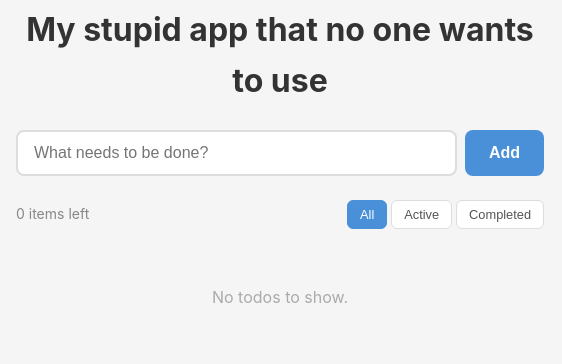
Test: Todo App › filters by All / Active / Completed
The image size is (562, 364).
In the field with placeholder "What needs to be done?": (236, 153) [16,130,457,176], type "Done task"
Click the button "Add": (504, 153) [465,130,544,176]
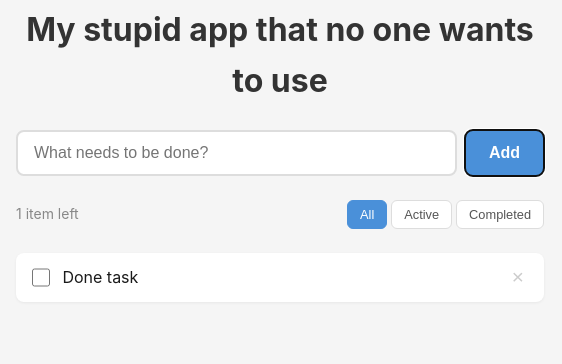
In the field with placeholder "What needs to be done?": (236, 153) [16,130,457,176], type "Pending task"
Click the button "Add": (504, 153) [465,130,544,176]
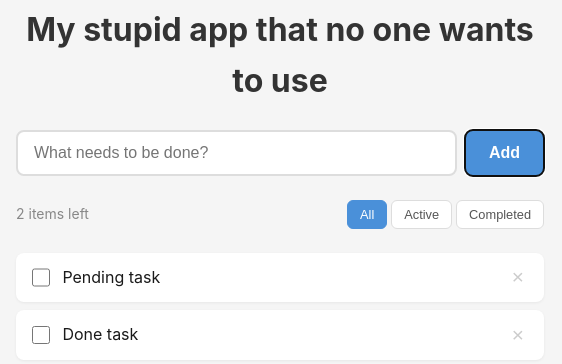
Click the checkbox named "Toggle \"Done task\"": (41, 335) [32,326,50,344]
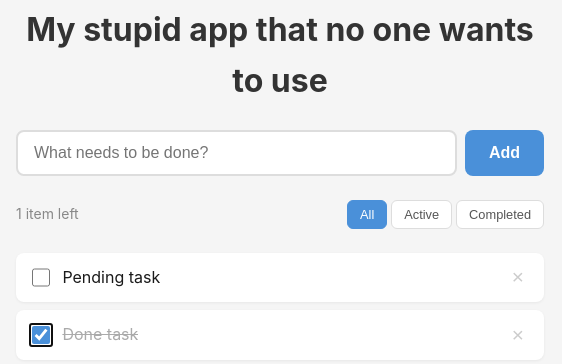
Click the button "Active": (422, 214) [391,200,452,229]
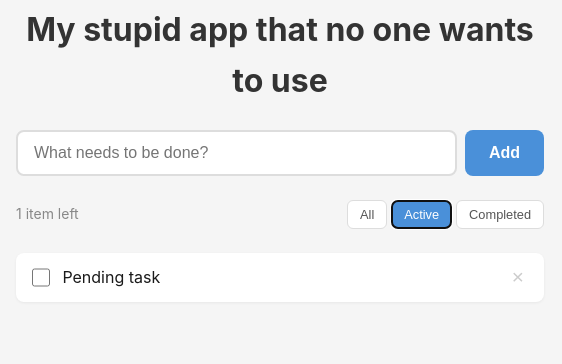
Expected: the text "Pending task" is shown, [62,265,160,290]
Expected: the text "Done task" is gone
Click the button "Completed": (500, 214) [456,200,544,229]
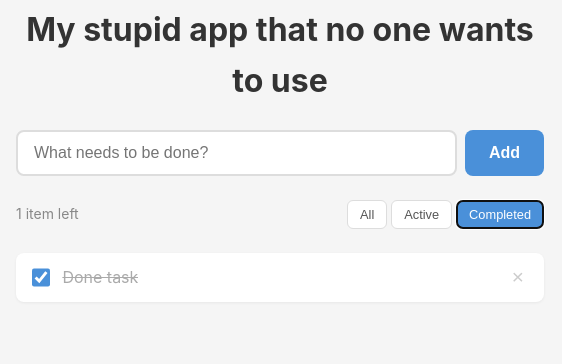
Expected: the text "Done task" is shown, [62,265,138,290]
Expected: the text "Pending task" is gone
Click the button "All": (367, 214) [347,200,387,229]
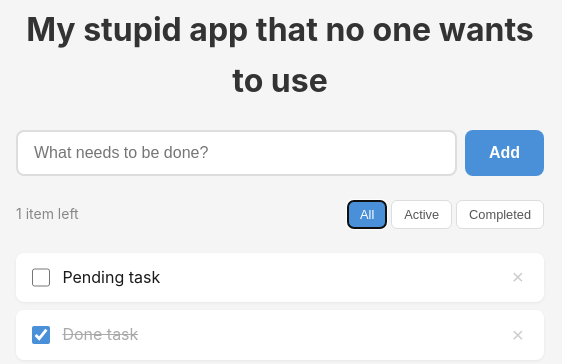
Expected: the text "Done task" is shown, [62,322,138,348]
Expected: the text "Pending task" is shown, [62,265,160,290]
